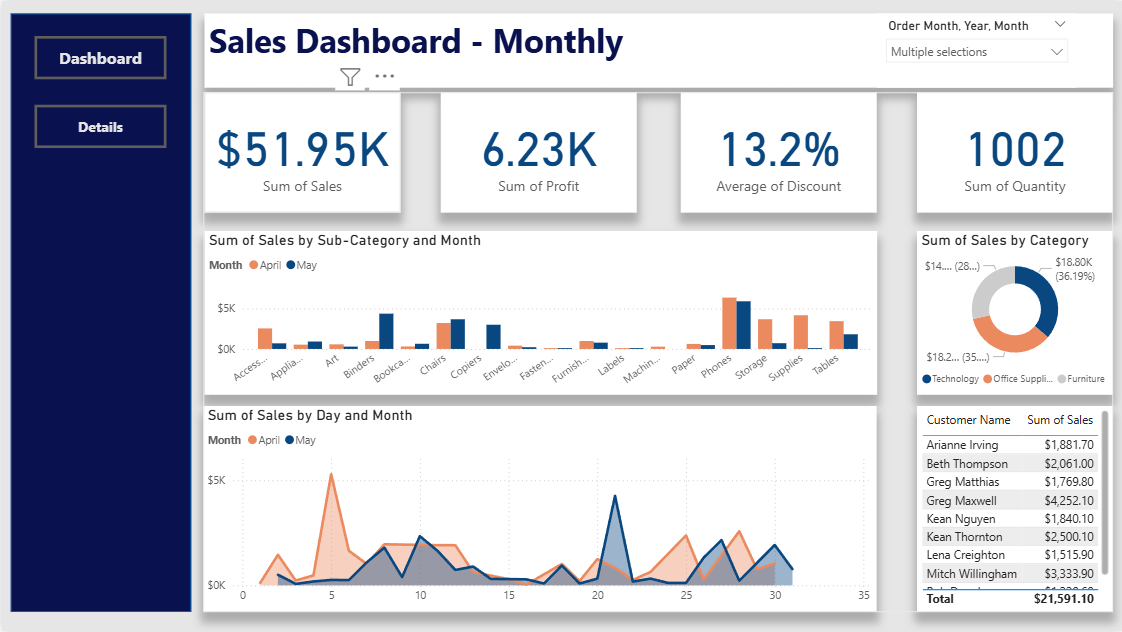

What the dashboard file says about the page in this screenshot:
{"tool":"powerbi","page":{"name":"Page 1","canvas":[1280,720],"ordinal":0},"visuals":[{"type":"shape","box":[9.7,14.5,206.3,684.1],"z":0},{"type":"card","fields":{"Values":["Sum(SuperStore.Sales)"]},"box":[231.6,105,224.4,137.5],"z":0,"group":"g1"},{"type":"actionButton","box":[37.4,39.8,150.8,49.5],"z":1000},{"type":"card","fields":{"Values":["Sum(SuperStore.Profit)"]},"box":[501.8,105,224.4,137.5],"z":1000,"group":"g1"},{"type":"card","fields":{"Values":["Avg(SuperStore.Discount)"]},"box":[775.7,105,224.4,137.5],"z":2000,"group":"g1"},{"type":"actionButton","box":[37.4,118.2,150.8,49.5],"z":2000},{"type":"textbox","box":[231.6,14.5,1038.7,84.5],"z":3000},{"type":"card","fields":{"Values":["Sum(SuperStore.Quantity)"]},"box":[1046,105,224.4,137.5],"z":3000,"group":"g1"},{"type":"slicer","fields":{"Values":["SuperStore.Order Month","SuperStore.Order Month.Variation.Date Hierarchy.Year","SuperStore.Order Month.Variation.Date Hierarchy.Month"]},"box":[1000.1,14.5,228,84.5],"z":4000},{"type":"clusteredColumnChart","fields":{"Category":["SuperStore.Sub-Category"],"Y":["Sum(SuperStore.Sales)"],"Series":["SuperStore.Order Month.Variation.Date Hierarchy.Month"]},"box":[231.6,264.3,768.5,187],"z":4000,"group":"g1"},{"type":"group","id":"g1","title":"Group 1","box":[230.4,105,1040,593.6],"z":5000},{"type":"areaChart","fields":{"Category":["SuperStore.Order Month.Variation.Date Hierarchy.Day"],"Y":["Sum(SuperStore.Sales)"],"Series":["SuperStore.Order Month.Variation.Date Hierarchy.Month"]},"box":[230.4,463.3,769.7,235.3],"z":5000,"group":"g1"},{"type":"donutChart","fields":{"Category":["SuperStore.Category"],"Y":["Sum(SuperStore.Sales)"]},"box":[1046,264.3,224.4,187],"z":6000,"group":"g1"},{"type":"tableEx","fields":{"Values":["SuperStore.Customer Name","Sum(SuperStore.Sales)"]},"box":[1046,463.3,224.4,235.3],"z":7000,"group":"g1"}]}

Visuals, with their boxes in screenshot pixels (x1, y1, x2, y2), scaled from the page's 1280x720 canvas onto the 1122x632 screenshot:
shape: Rect(9, 13, 189, 613)
card - Sum(SuperStore.Sales): Rect(203, 92, 400, 213)
actionButton: Rect(33, 35, 165, 78)
card - Sum(SuperStore.Profit): Rect(440, 92, 637, 213)
card - Avg(SuperStore.Discount): Rect(680, 92, 877, 213)
actionButton: Rect(33, 104, 165, 147)
textbox: Rect(203, 13, 1113, 87)
card - Sum(SuperStore.Quantity): Rect(917, 92, 1114, 213)
slicer - SuperStore.Order Month x SuperStore.Order Month.Variation.Date Hierarchy.Year: Rect(877, 13, 1077, 87)
clusteredColumnChart - SuperStore.Sub-Category x Sum(SuperStore.Sales): Rect(203, 232, 877, 396)
"Group 1" group: Rect(202, 92, 1114, 613)
areaChart - SuperStore.Order Month.Variation.Date Hierarchy.Day x Sum(SuperStore.Sales): Rect(202, 407, 877, 613)
donutChart - SuperStore.Category x Sum(SuperStore.Sales): Rect(917, 232, 1114, 396)
tableEx - SuperStore.Customer Name x Sum(SuperStore.Sales): Rect(917, 407, 1114, 613)
